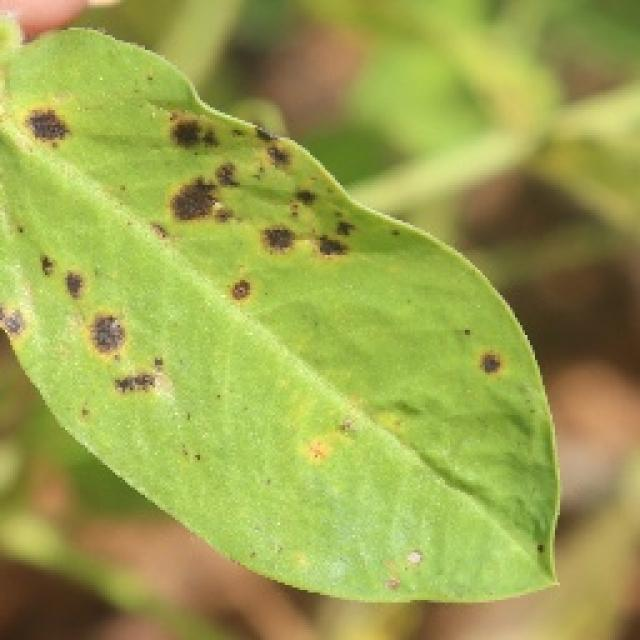Yellowish: (0, 70, 536, 605)
